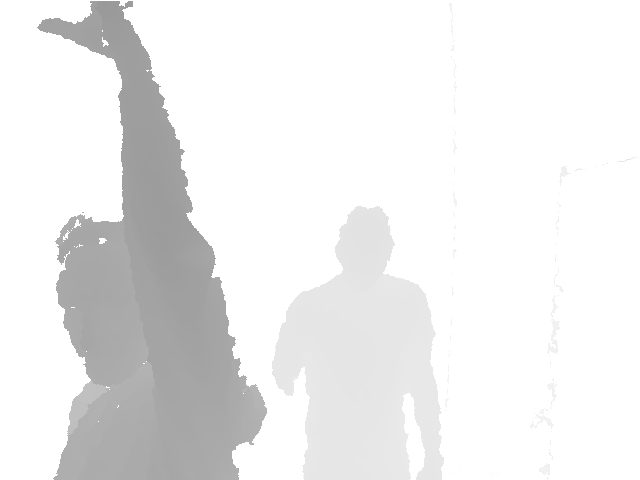hand: (37, 1, 152, 72)
head: (55, 213, 163, 388), (334, 206, 394, 282)
person: (37, 1, 269, 480), (270, 207, 445, 480)
